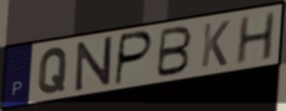B: (154, 25, 194, 80)
H: (234, 9, 277, 66)
K: (199, 19, 232, 70)
N: (74, 34, 114, 94)
P: (113, 30, 155, 88)
Q: (36, 46, 70, 96)
